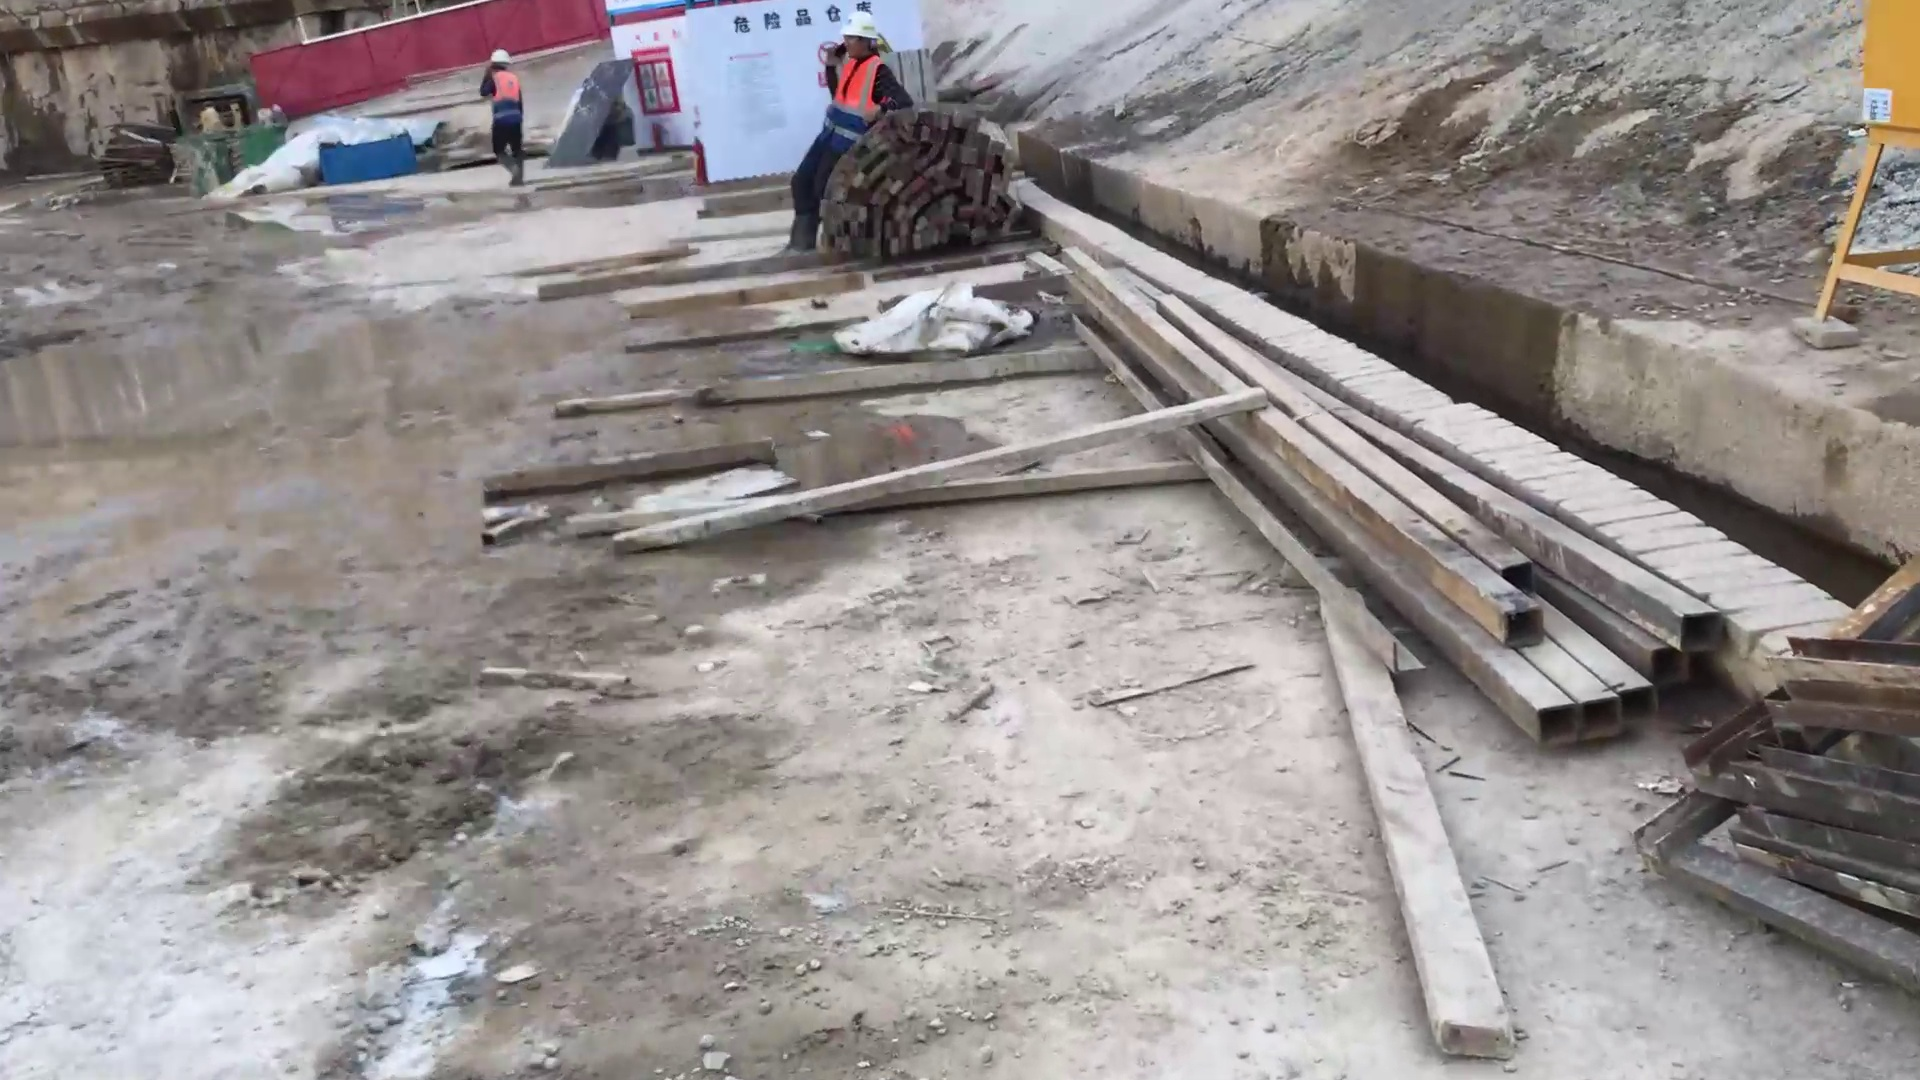helmet: (829, 7, 896, 60)
person: (796, 4, 908, 268), (474, 47, 524, 180)
vest: (817, 47, 886, 157), (475, 61, 525, 137)
wood: (815, 91, 1062, 269)
